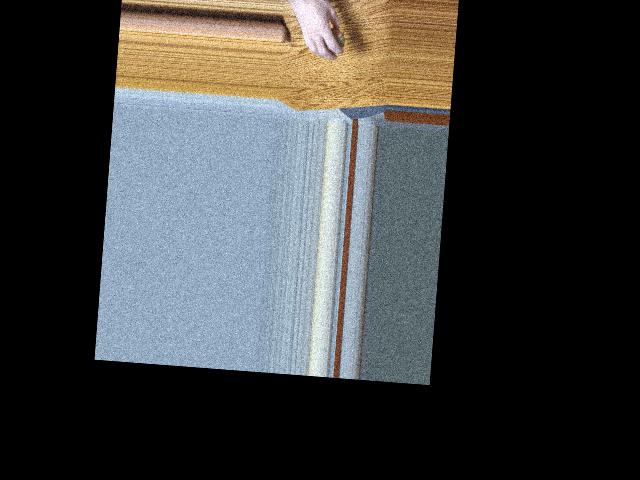onion: (318, 24, 346, 57)
